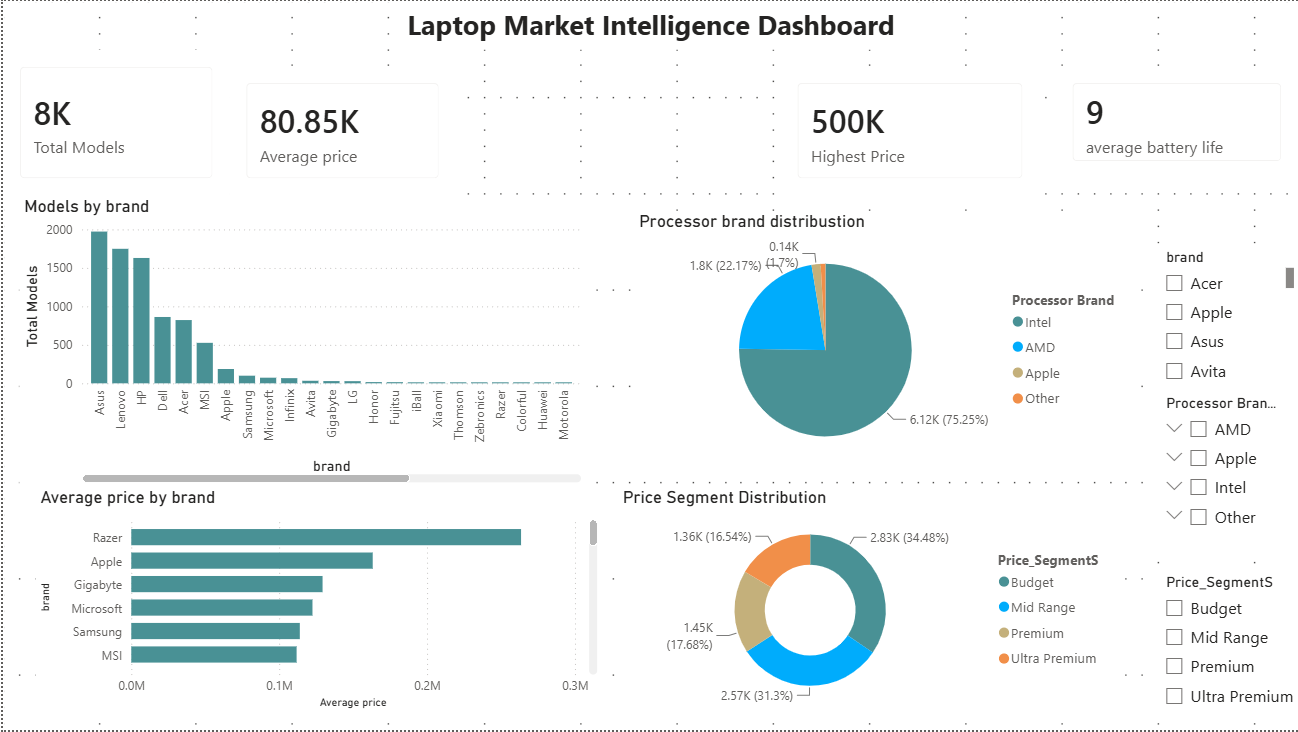

Layout of this report page (visuals, bound fields, positions):
{"tool":"powerbi","page":{"name":"Page 1","canvas":[1280,720],"ordinal":0},"visuals":[{"type":"cardVisual","fields":{"Data":["cleaned_laptop_dataset.Highest Price"]},"box":[768,80,256,128],"z":0},{"type":"cardVisual","fields":{"Data":["cleaned_laptop_dataset.Total Models"]},"box":[0,48,224,144],"z":1},{"type":"cardVisual","fields":{"Data":["cleaned_laptop_dataset.Average price"]},"box":[224,64,224,128],"z":2},{"type":"columnChart","fields":{"Y":["cleaned_laptop_dataset.Total Models"],"Category":["cleaned_laptop_dataset.brand"]},"box":[16,192,560,288],"z":3},{"type":"cardVisual","fields":{"Data":["cleaned_laptop_dataset.average battery life"]},"box":[1040,96,240,112],"z":5},{"type":"slicer","fields":{"Values":["cleaned_laptop_dataset.brand"]},"box":[1136,240,144,144],"z":6},{"type":"slicer","fields":{"Values":["cleaned_laptop_dataset.Processor Brand","cleaned_laptop_dataset.Price_SegmentS"]},"box":[1136,384,144,160],"z":7},{"type":"slicer","fields":{"Values":["cleaned_laptop_dataset.Price_SegmentS"]},"box":[1136,560,144,144],"z":8},{"type":"clusteredBarChart","fields":{"Category":["cleaned_laptop_dataset.brand"],"Y":["cleaned_laptop_dataset.Average price"]},"box":[32,480,560,224],"z":10},{"type":"pieChart","title":"Processor brand distribustion","fields":{"Y":["Count(cleaned_laptop_dataset.model)"],"Category":["cleaned_laptop_dataset.Processor Brand"]},"box":[624,208,496,256],"z":11},{"type":"donutChart","fields":{"Y":["CountNonNull(cleaned_laptop_dataset.model)"],"Category":["cleaned_laptop_dataset.Price_SegmentS"]},"box":[608,480,496,224],"z":12}]}

Visuals, with their boxes in screenshot pixels (x1, y1, x2, y2), scaled from the page's 1280x720 canvas onto the 1298x732 screenshot:
cardVisual - cleaned_laptop_dataset.Highest Price: 779/81/1038/211
cardVisual - cleaned_laptop_dataset.Total Models: 0/49/227/195
cardVisual - cleaned_laptop_dataset.Average price: 227/65/454/195
columnChart - cleaned_laptop_dataset.Total Models x cleaned_laptop_dataset.brand: 16/195/584/488
cardVisual - cleaned_laptop_dataset.average battery life: 1055/98/1297/211
slicer - cleaned_laptop_dataset.brand: 1152/244/1297/390
slicer - cleaned_laptop_dataset.Processor Brand x cleaned_laptop_dataset.Price_SegmentS: 1152/390/1297/553
slicer - cleaned_laptop_dataset.Price_SegmentS: 1152/569/1297/716
clusteredBarChart - cleaned_laptop_dataset.brand x cleaned_laptop_dataset.Average price: 32/488/600/716
"Processor brand distribustion" pieChart: 633/211/1136/472
donutChart - CountNonNull(cleaned_laptop_dataset.model) x cleaned_laptop_dataset.Price_SegmentS: 617/488/1120/716
